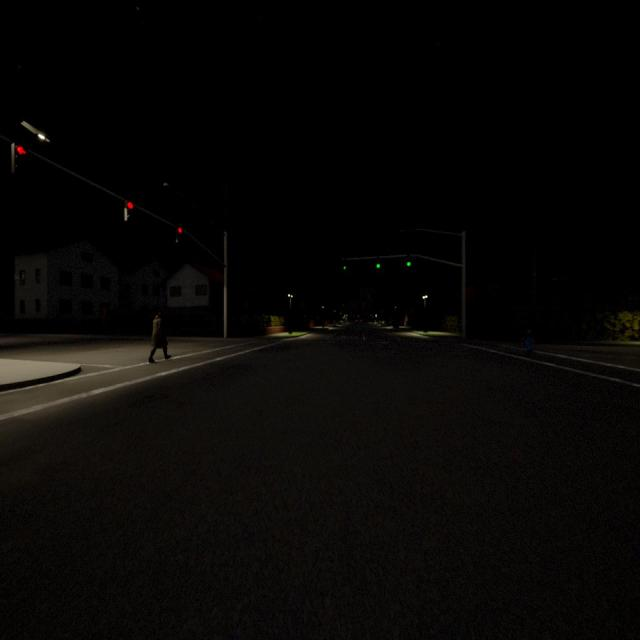Pedestrian: (148, 310, 170, 363), (526, 329, 534, 358)
traffic_light: (12, 143, 26, 173), (125, 201, 133, 220), (176, 226, 182, 242), (376, 258, 380, 268), (407, 256, 410, 266), (344, 260, 346, 270)
